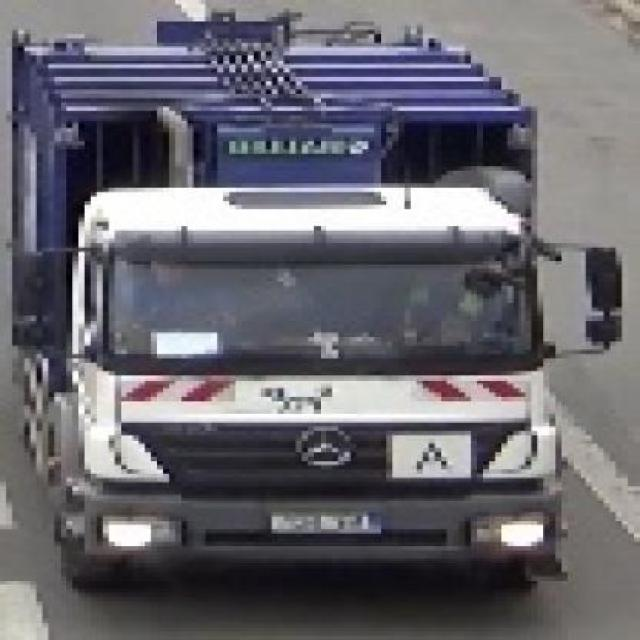truck: (1, 1, 616, 593)
